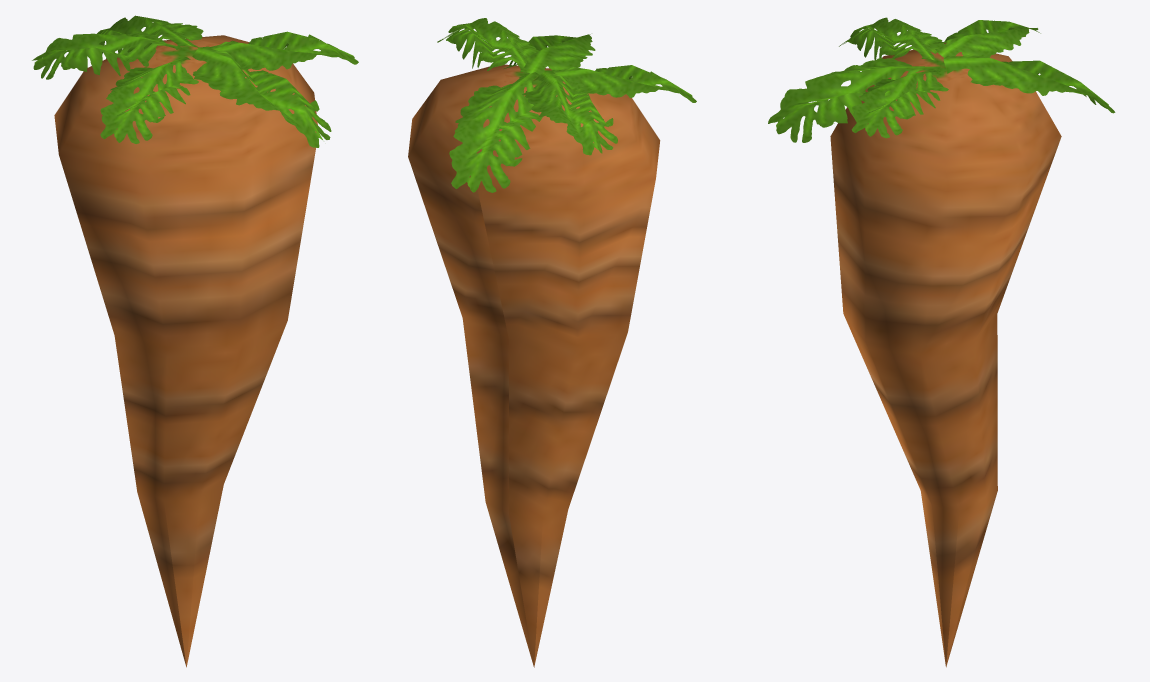
The model's file is mega_carrot.FBX.
The picture shows the model from 3 angles, left to right: view 1: azimuth 30°, elevation 25°; view 2: azimuth 150°, elevation 25°; view 3: azimuth 270°, elevation 25°; orthographic projection. The views are drawn at different scales.
Parts seen in each view (by area): view 1: carotte; view 2: carotte; view 3: carotte.
Part boxes in pixels (<box>): carotte: <box>32,15,358,667</box>; carotte: <box>408,18,696,667</box>; carotte: <box>768,17,1115,667</box>.
Size of the model in its own units: 77.34 by 161 by 93.12.
1 material, 1 textured.
